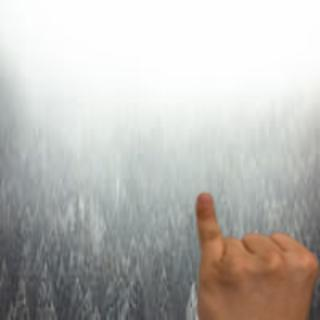FINE: (188, 189, 320, 320)
